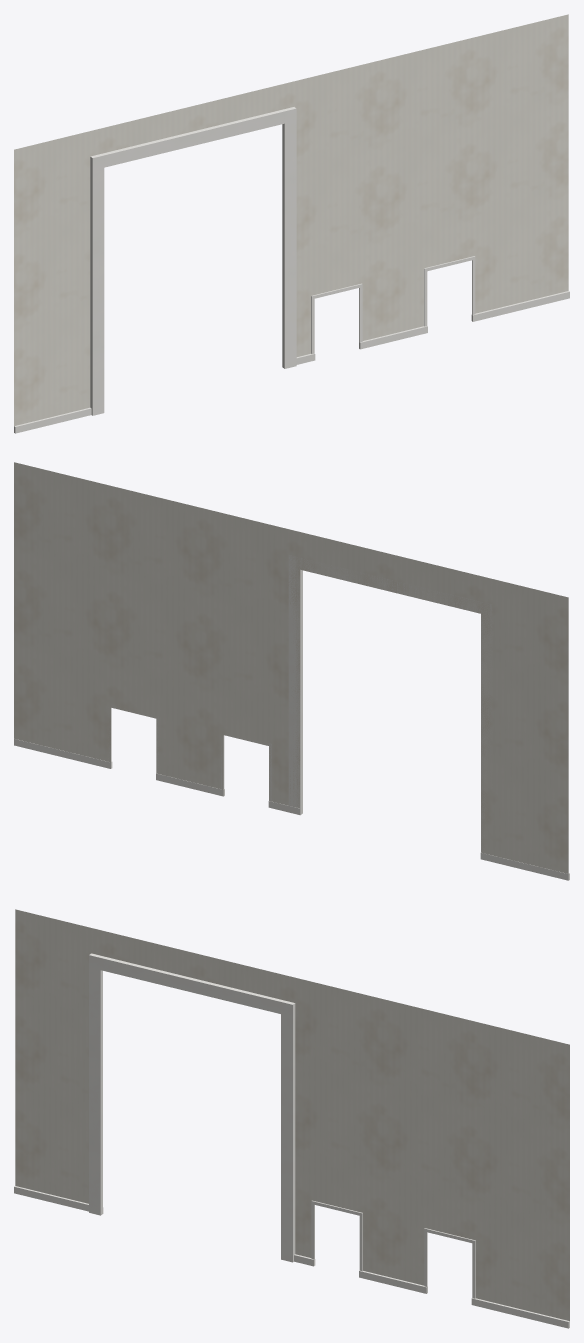
3 views of the same model, one above another, from view 1: azimuth 30°, elevation 25°; view 2: azimuth 150°, elevation 25°; view 3: azimuth 330°, elevation 25° (orthographic).
Visible parts, largest first — view 1: jx_wm_12_1d43e1fa; view 2: jx_wm_12_1d43e1fa; view 3: jx_wm_12_1d43e1fa.
Part boxes in pixels (x1,y1,x2,y2): jx_wm_12_1d43e1fa: (14,14,569,433); jx_wm_12_1d43e1fa: (14,462,569,880); jx_wm_12_1d43e1fa: (14,909,569,1328).
Size of the model in its own units: 12.3 by 6 by 0.095.
2 materials, 2 textured.
